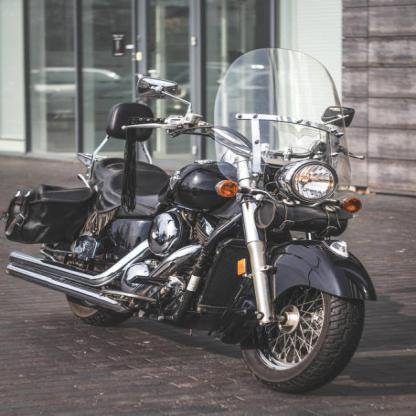Motorcycle: (0, 44, 369, 397)
